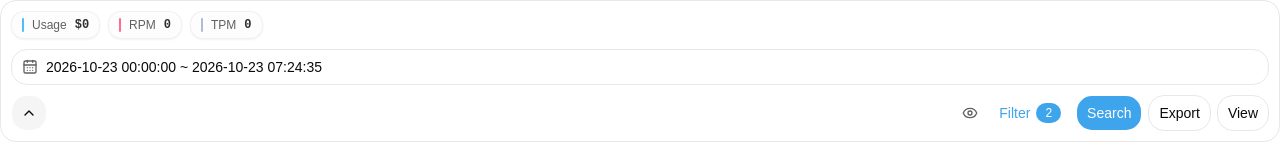
Scenario: collapses only date and statistics while keeping the right-hand quick actions visible
Expected: the button "Filter 2" is shown, top-left (990, 95), bottom-right (1070, 131)
Expected: the text "Usage" is shown, top-left (32, 17), bottom-right (67, 33)
Step 1. Click the button named "Collapse" → (29,113), box top-left (11, 95), bottom-right (47, 131)
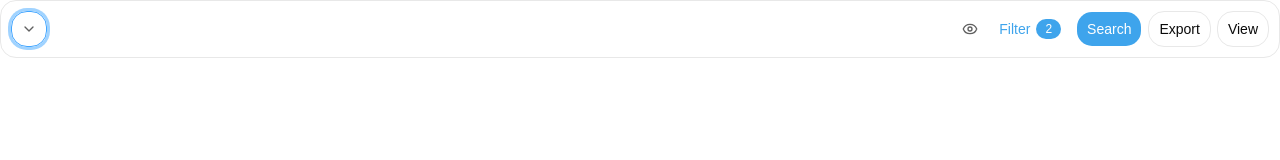
Expected: the button named "Hide" is shown, top-left (956, 11), bottom-right (984, 47)
Expected: the button named "Expand" is collapsed
Expected: the text "Usage" is gone
Step 2. Click the button named "Expand" → (29,29), box top-left (11, 11), bottom-right (47, 47)
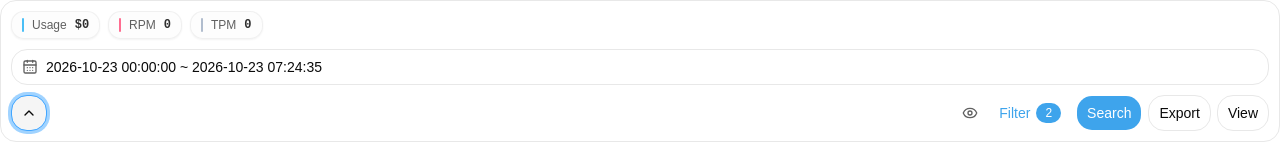
Expected: the button named "Collapse" is expanded, top-left (11, 95), bottom-right (47, 131)
Expected: the text "Usage" is shown, top-left (32, 17), bottom-right (67, 33)
